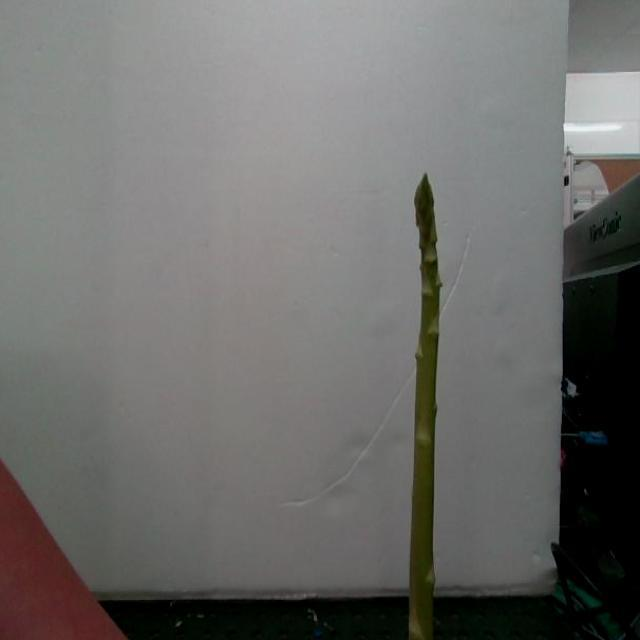aspargus: (408, 178, 444, 640)
